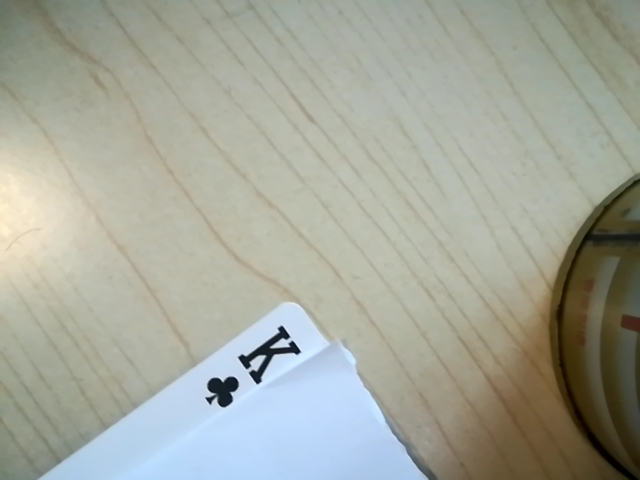mh k: (187, 321, 316, 413)
